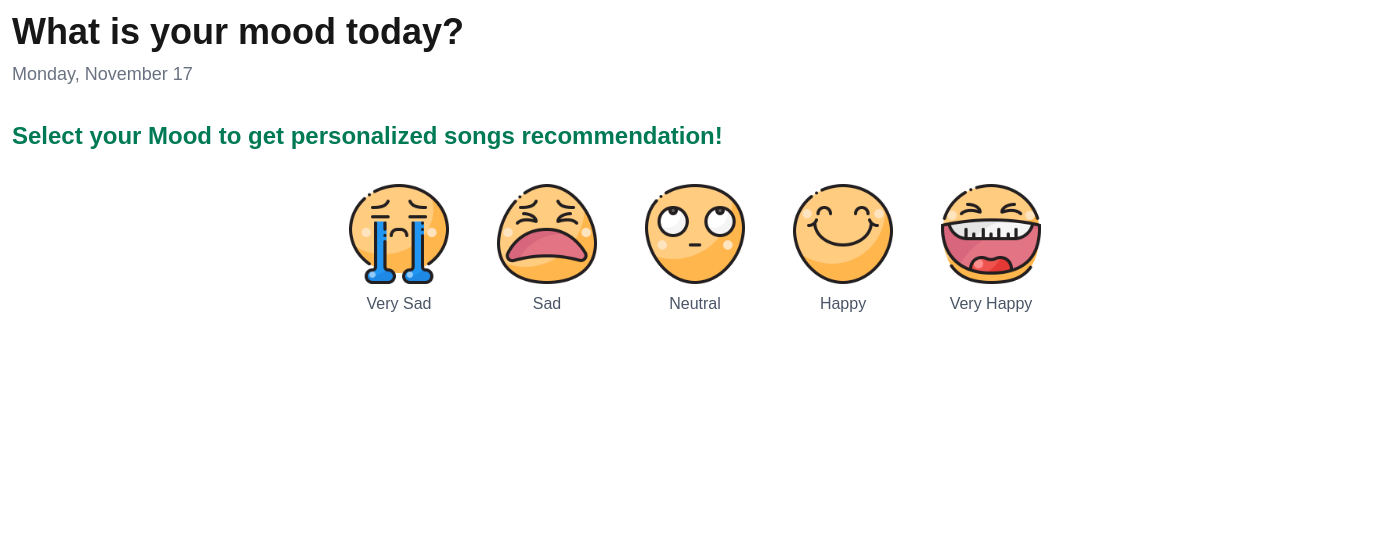
Test case: MoodSelector component › After the user selects its mood... › ...and the user selects to change it... › ...it displays a modal
Click the button "Sad".
click(547, 250)  # box [489, 176, 605, 324]
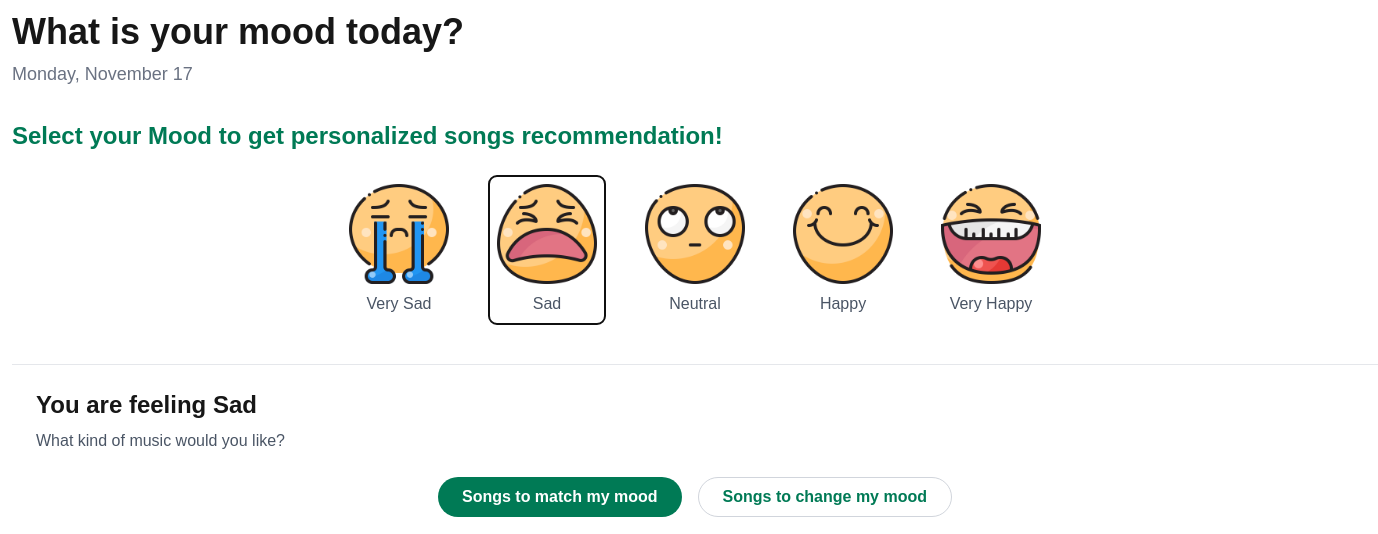
Click the button "Songs to change my mood".
click(825, 497)  # box [698, 477, 952, 517]
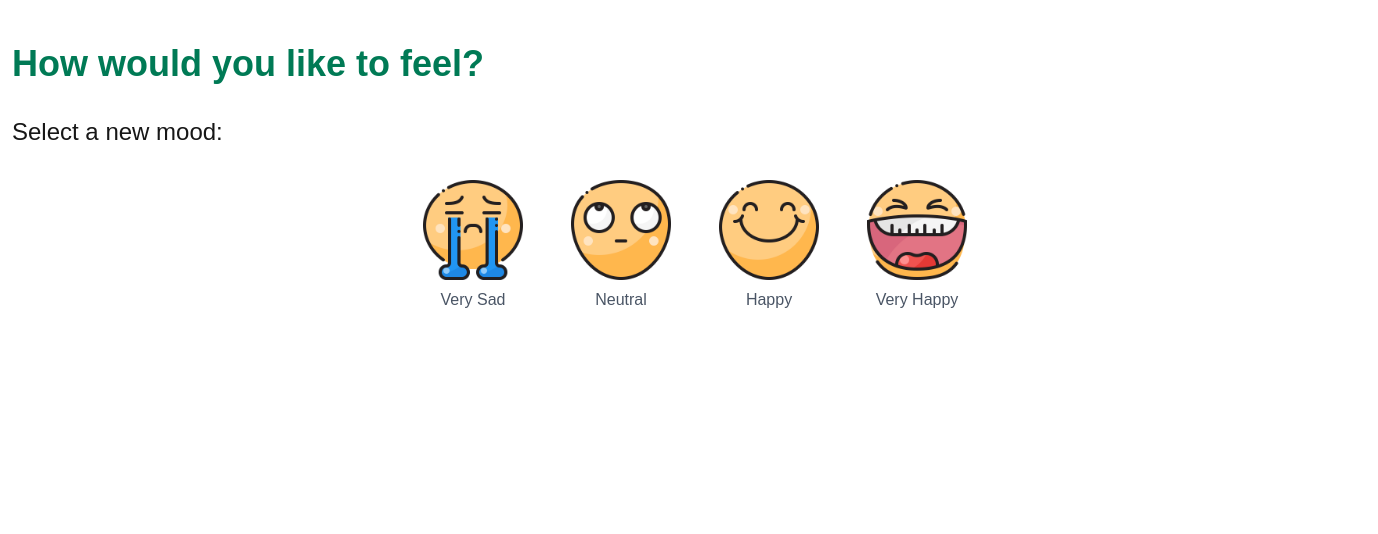
Expected: the heading "How would you like to feel?" is shown, [12, 43, 484, 84]
